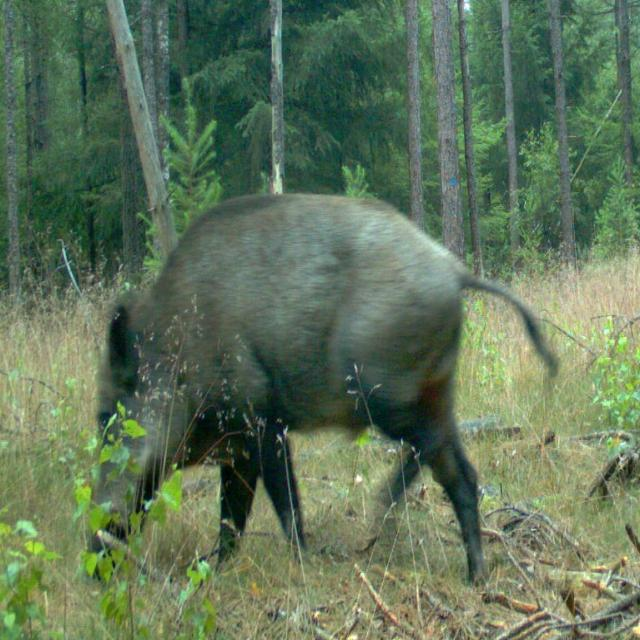pig: (67, 194, 526, 579)
